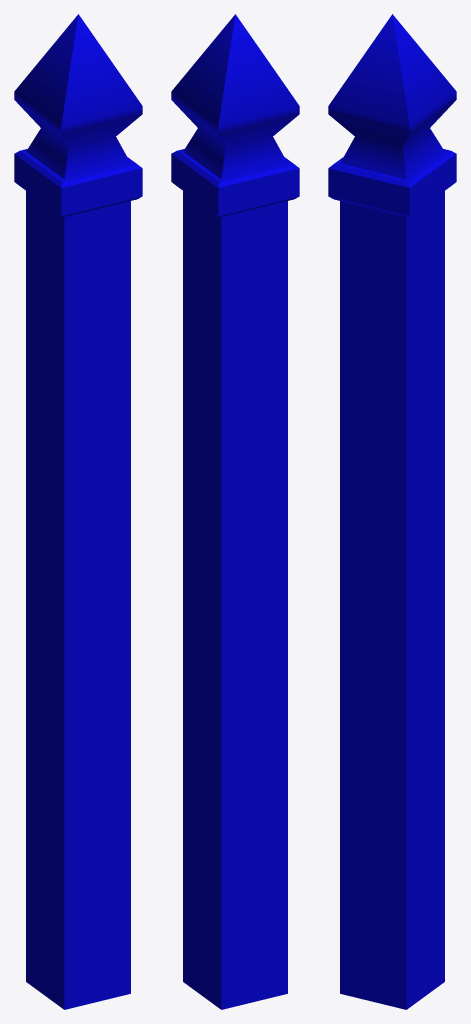
File: SM_FencePost.fbx
3 renders of one model, left to right at view 1: azimuth 30°, elevation 25°; view 2: azimuth 210°, elevation 25°; view 3: azimuth 330°, elevation 25°, orthographic.
Visible parts, largest first — view 1: Fence:pCube1; view 2: Fence:pCube1; view 3: Fence:pCube1.
Part boxes in pixels (x1=…): Fence:pCube1: x1=14, y1=14, x2=142, y2=1009; Fence:pCube1: x1=171, y1=14, x2=299, y2=1009; Fence:pCube1: x1=328, y1=14, x2=456, y2=1009.
Bounding box in the file's own units: 0.1014 × 1.16 × 0.1014.
